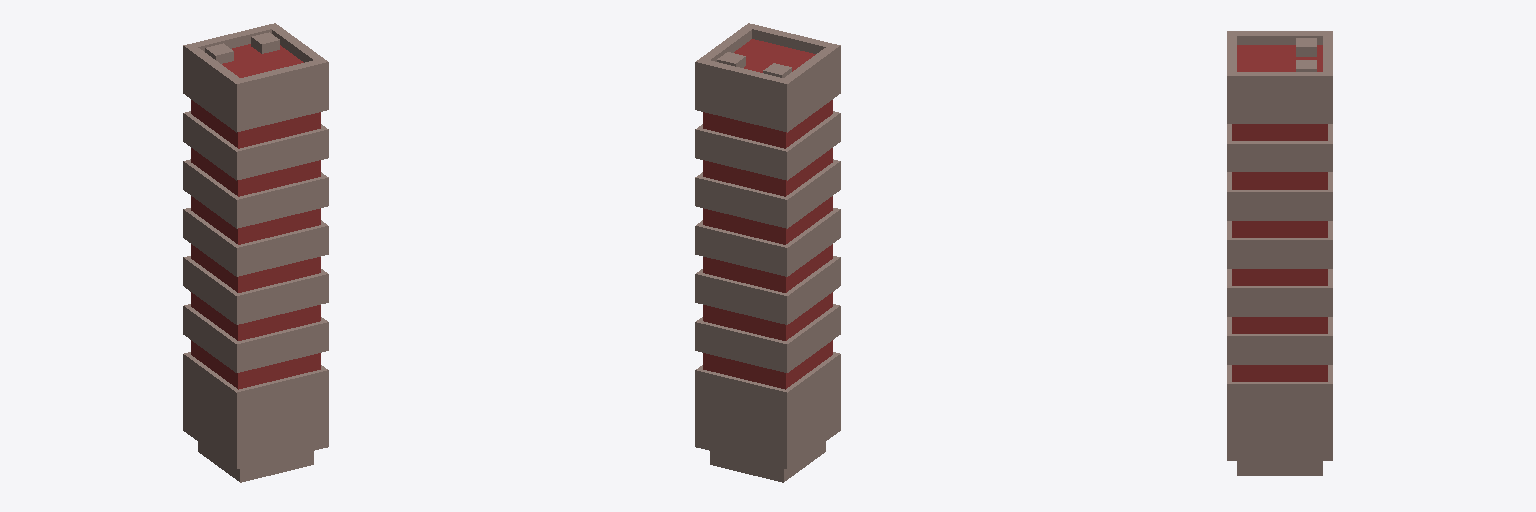
Rendered from low_buildingN_CyPk.obj.
The picture shows the model from 3 angles: view 1: azimuth 30°, elevation 25°; view 2: azimuth 150°, elevation 25°; view 3: azimuth 270°, elevation 25°; orthographic projection.
Visible parts, largest first — view 1: low_buildingN; view 2: low_buildingN; view 3: low_buildingN.
Part boxes in pixels (bbox=[...]): low_buildingN: bbox=[183, 23, 328, 482]; low_buildingN: bbox=[695, 23, 840, 482]; low_buildingN: bbox=[1227, 31, 1332, 475].
Bounding box in the file's own units: 0.5 × 2.1 × 0.5.